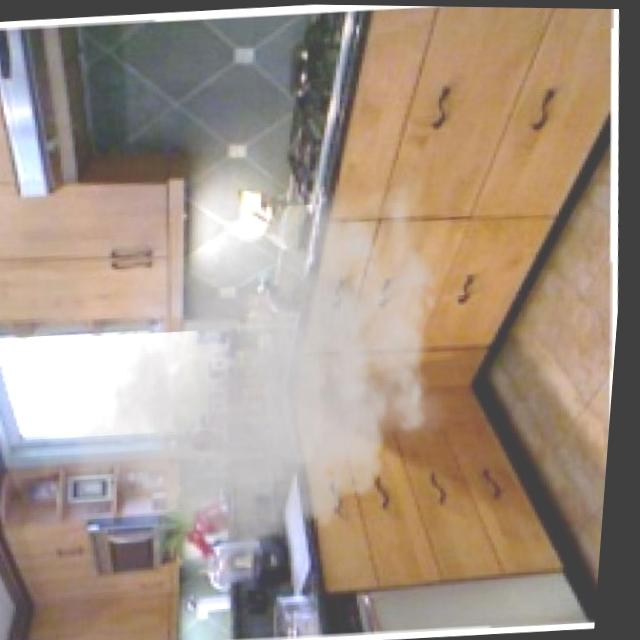no_helmet: (65, 146, 462, 591)
